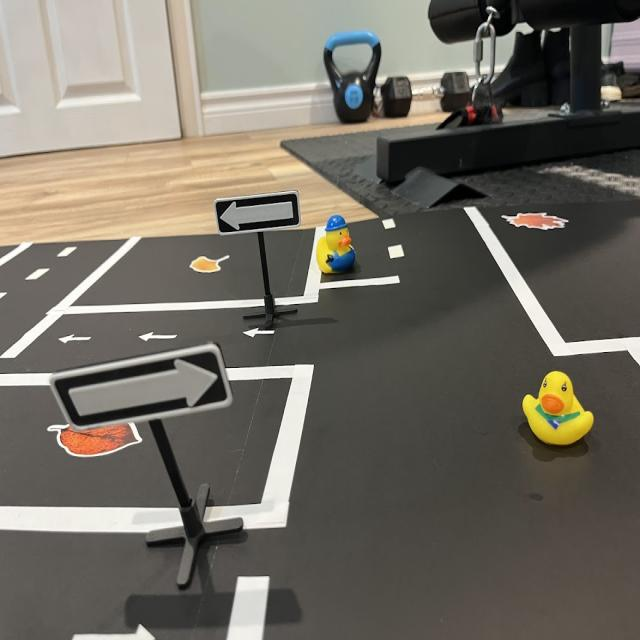duck_regular: (521, 359, 600, 454)
duck_specialty: (313, 216, 362, 281)
road_oneway: (137, 326, 183, 348), (56, 329, 97, 351), (240, 327, 279, 346)
sign_oneway_left: (217, 194, 303, 234)
sign_oneway_right: (55, 341, 233, 430)
